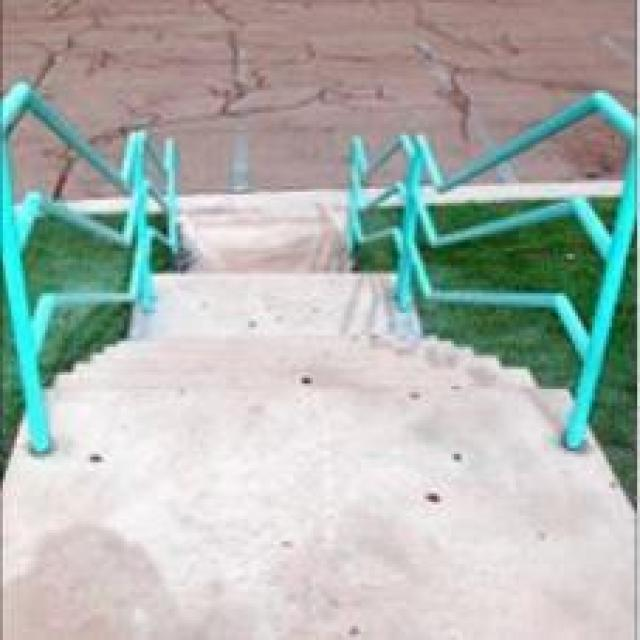downstair: (52, 297, 565, 472)
